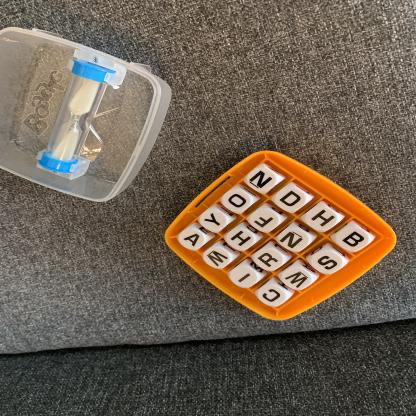a: (178, 231, 207, 250)
b: (334, 228, 371, 253)
c: (259, 285, 288, 308)
d: (276, 188, 308, 211)
f: (250, 209, 281, 231)
h: (306, 208, 341, 231), (227, 229, 256, 251)
i: (231, 266, 260, 289)
n: (278, 229, 312, 253), (247, 168, 279, 191)
o: (223, 190, 254, 212)
r: (253, 250, 285, 272)
s: (311, 250, 344, 275)
w: (283, 267, 314, 292), (204, 248, 233, 270)
y: (201, 211, 230, 232)
